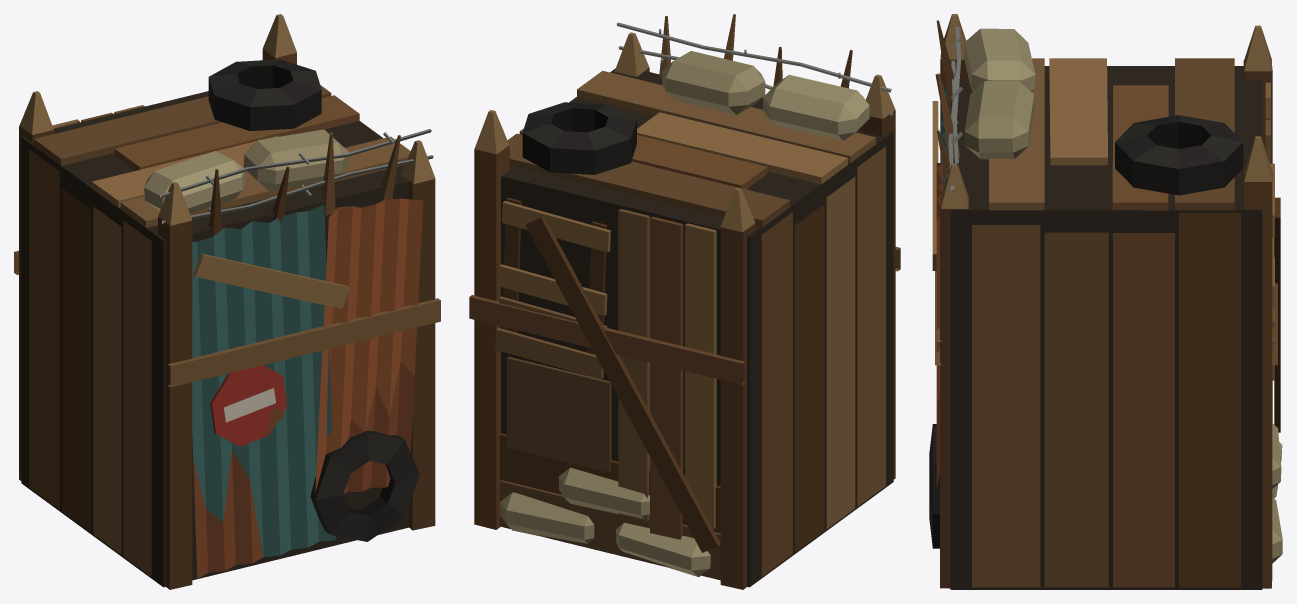
Rendered from muro_1.glb.
The picture shows the model from 3 angles, left to right: view 1: azimuth 30°, elevation 25°; view 2: azimuth 150°, elevation 25°; view 3: azimuth 270°, elevation 25°; orthographic projection. The views are drawn at different scales.
Visible parts, largest first — view 1: muro_1.001; view 2: muro_1.001; view 3: muro_1.001.
Boxes of the visible parts, x1,y1,x2,y2 form: muro_1.001: (14, 14, 440, 589); muro_1.001: (469, 14, 900, 589); muro_1.001: (929, 14, 1282, 589).
Size of the model in its own units: 1.62 by 2.37 by 1.66.
